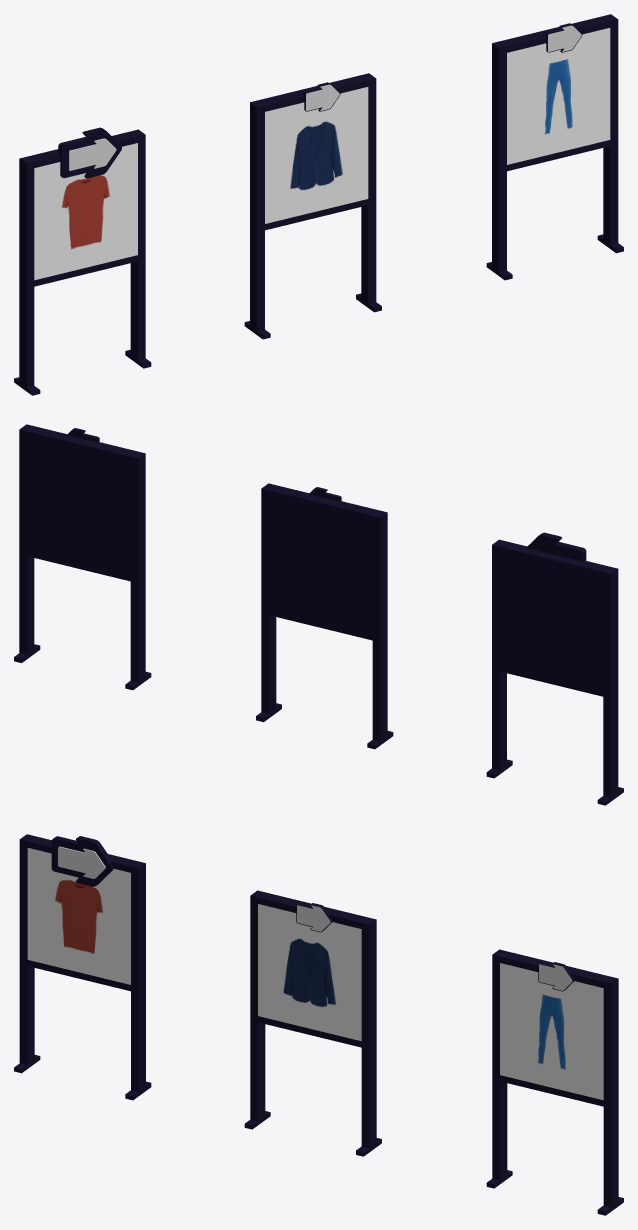
File: Boards_Sneaker Game.fbx
The picture shows the model from 3 angles, top to bottom: view 1: azimuth 30°, elevation 25°; view 2: azimuth 150°, elevation 25°; view 3: azimuth 330°, elevation 25°; orthographic projection.
Visible parts, largest first — view 1: Board.002, Board.001, Board, Arrow, Arrow.003, Arrow.002, Arrow.001; view 2: Board.002, Board.001, Board, Arrow; view 3: Board.002, Board.001, Board, Arrow, Arrow.003, Arrow.001, Arrow.002.
Boxes of the visible parts, x1,y1,x2,y2 form: Board.002: (486,14,623,280); Board.001: (244,73,381,339); Board: (14,129,151,395); Arrow: (58,127,121,178); Arrow.003: (69,138,116,170); Arrow.002: (545,23,582,52); Arrow.001: (303,82,340,111); Board.002: (14,424,151,690); Board.001: (256,483,393,749); Board: (486,539,623,805); Arrow: (526,532,586,561); Board.002: (486,949,623,1215); Board.001: (244,890,381,1156); Board: (14,834,151,1100); Arrow: (51,836,113,886); Arrow.003: (58,846,105,878); Arrow.001: (296,903,332,932); Arrow.002: (538,962,574,991).
Bounding box in the file's own units: 694 × 274 × 37.29.
Materials: 6 (3 with a texture image).
